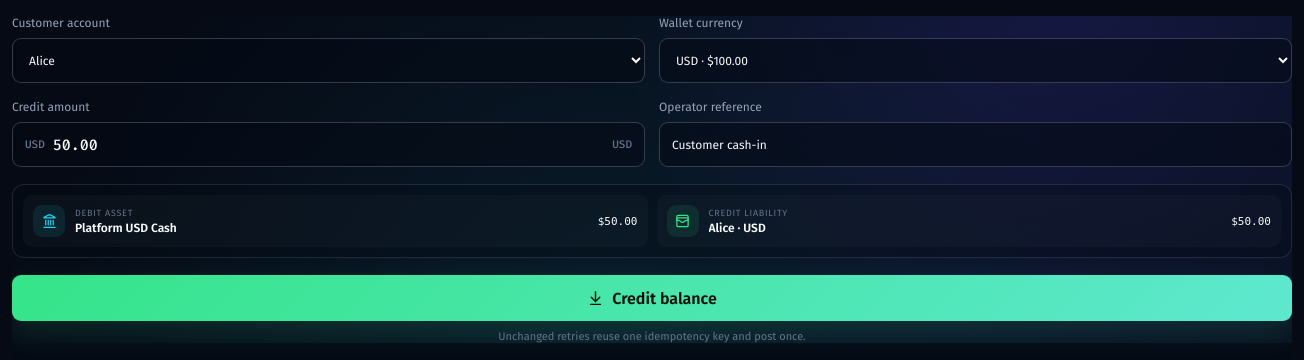
WalletFundingForm › repairs currency selection when customer changes
Select "Bob" in the dropdown labelled "Customer account" at (328, 60), box [12, 38, 645, 83]
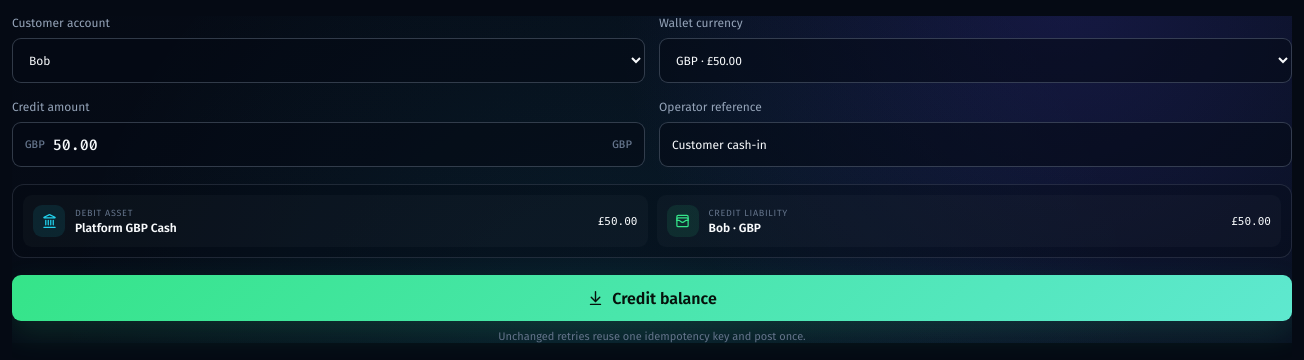
Expected: the dropdown labelled "Wallet currency" shows "GBP · £50.00", [659, 38, 1292, 83]
Expected: the 2nd text "GBP" is shown, [612, 137, 632, 152]
